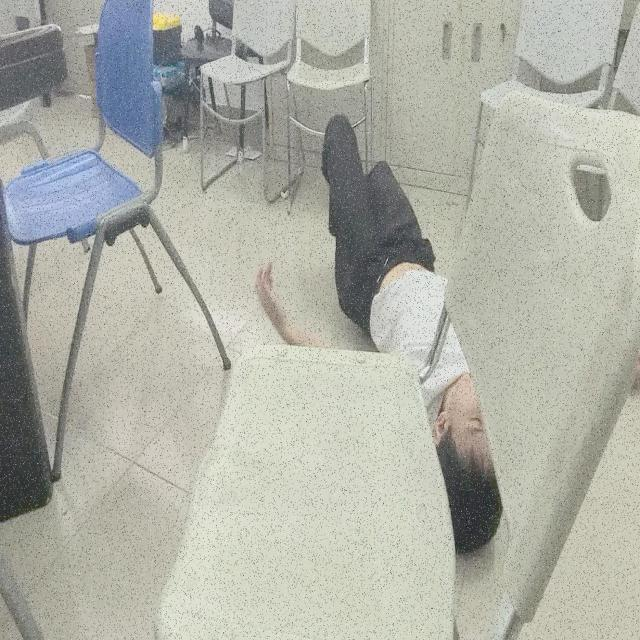fall: (253, 113, 520, 549)
